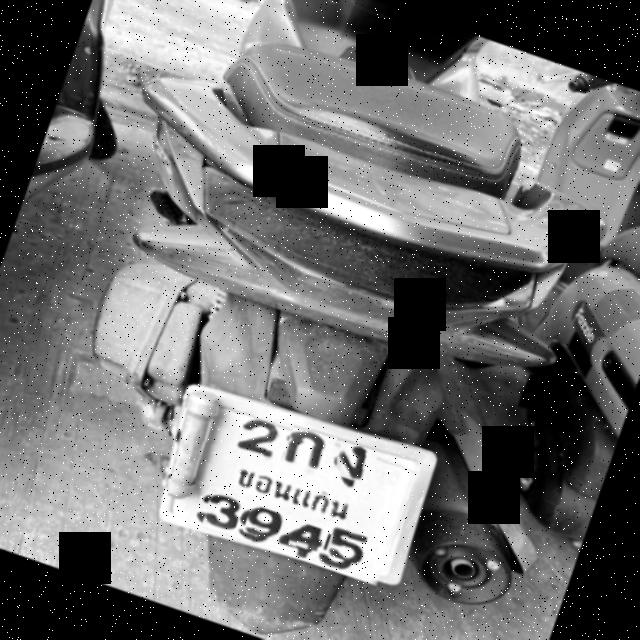letters: (279, 422, 337, 480), (231, 414, 284, 464), (330, 442, 378, 487), (200, 488, 244, 536), (323, 524, 370, 566), (242, 503, 284, 542), (286, 520, 328, 555)
license-plate: (176, 400, 415, 582)
province: (225, 457, 364, 529)
